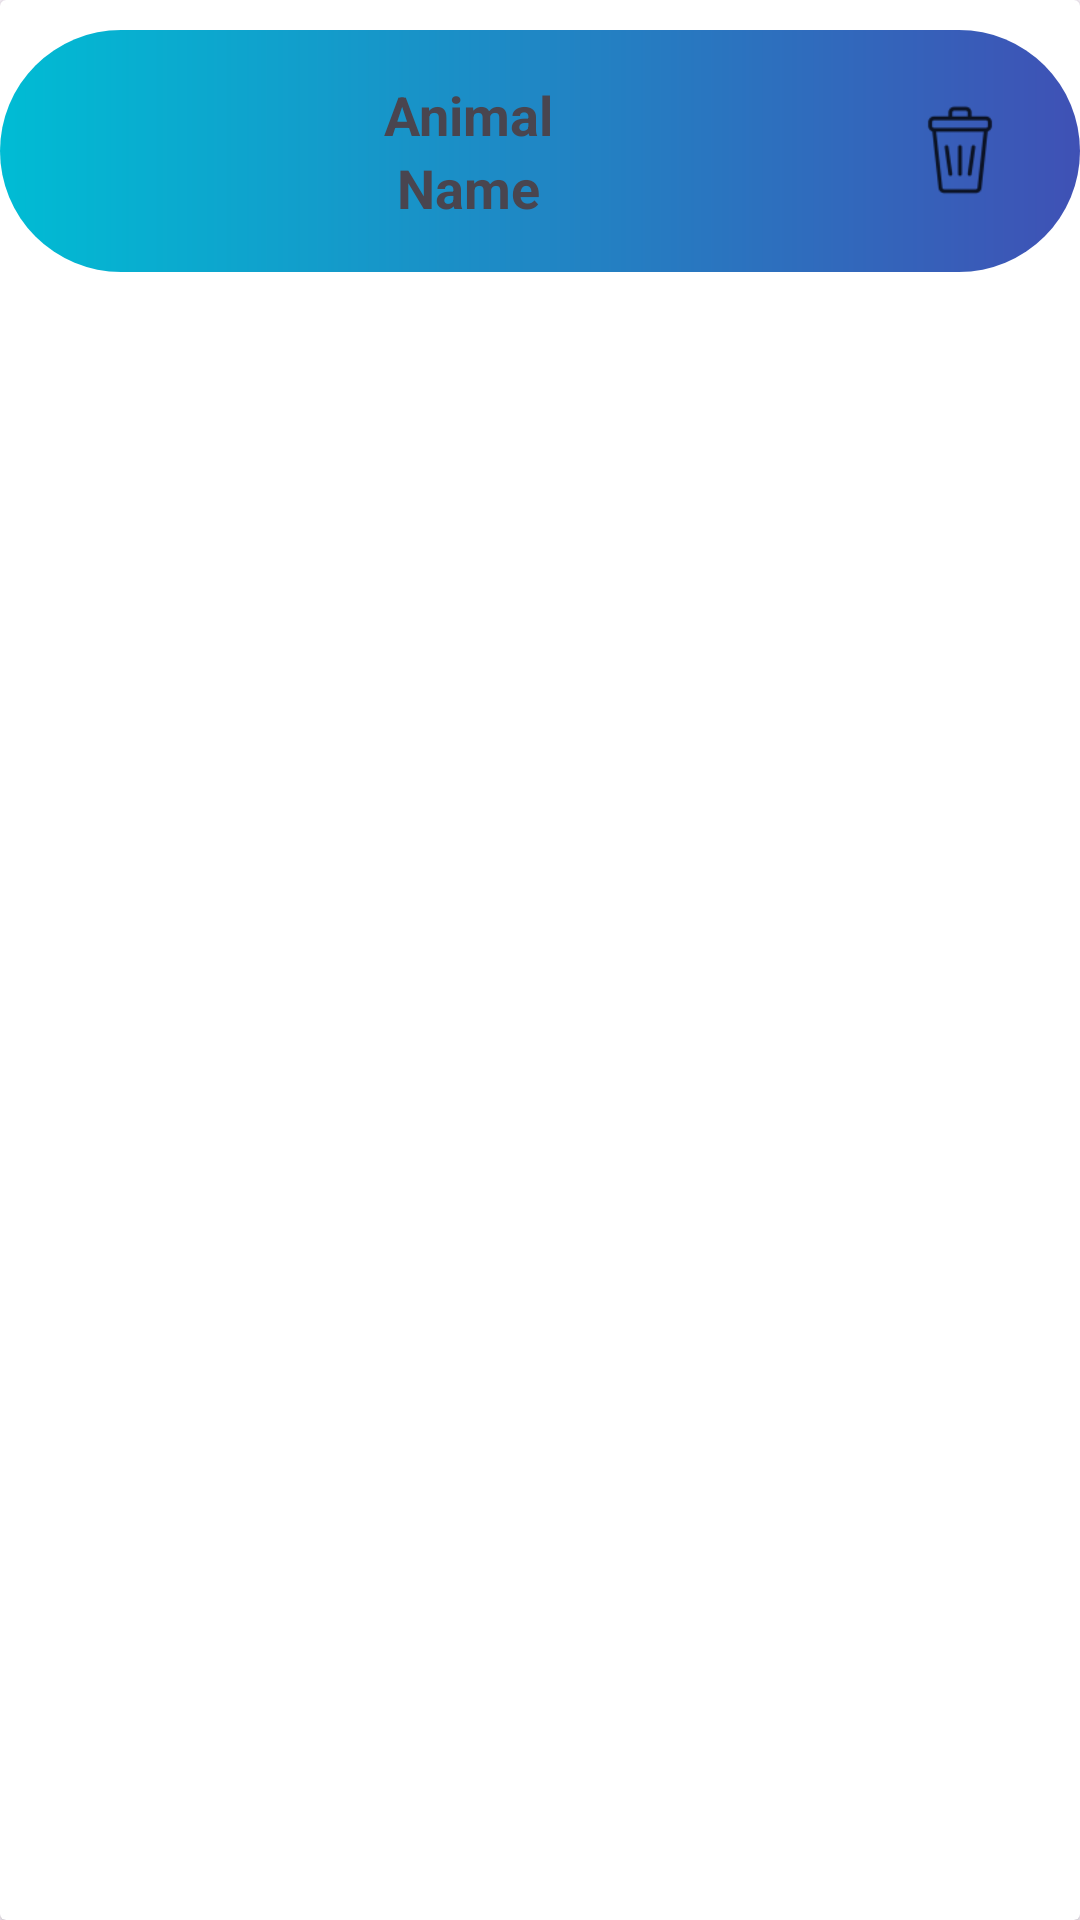

Named icons in this screenshot (1080 x 1920) and their bounding boxes, rect(x1, y1, x2, y2):
bin: rect(928, 106, 992, 194)
